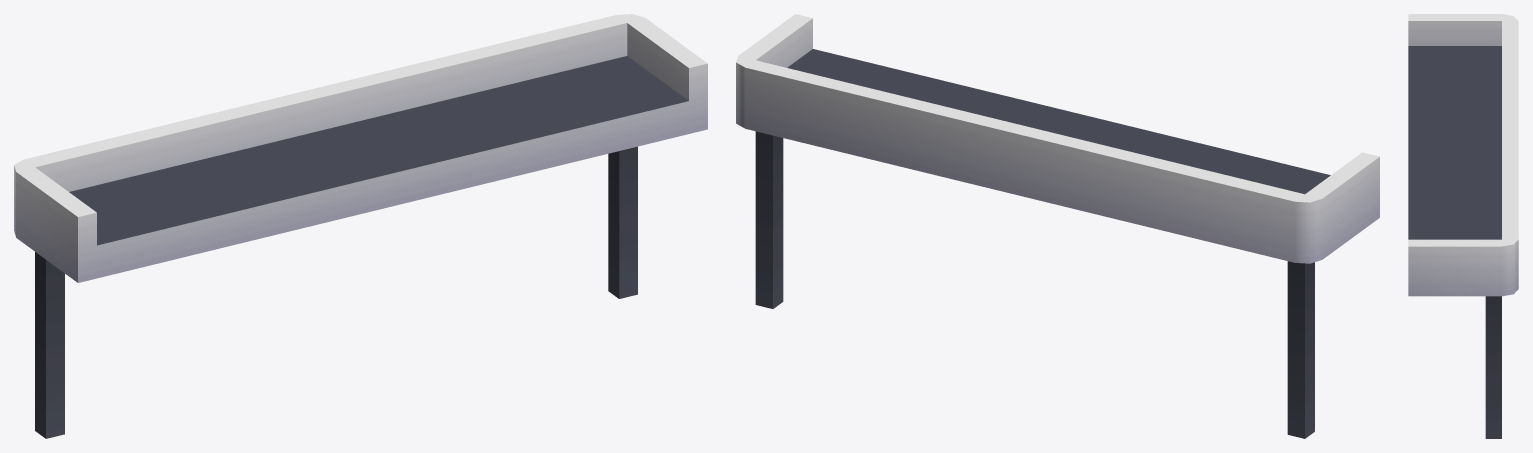
File: detail-overhang-wide.glb
The picture shows the model from 3 angles, left to right: view 1: azimuth 30°, elevation 25°; view 2: azimuth 150°, elevation 25°; view 3: azimuth 270°, elevation 25°; orthographic projection. The views are drawn at different scales.
Visible parts, largest first — view 1: detail-overhang-wide; view 2: detail-overhang-wide; view 3: detail-overhang-wide.
Part boxes in pixels (bbox=[...]): detail-overhang-wide: bbox=[14, 14, 707, 438]; detail-overhang-wide: bbox=[736, 14, 1379, 438]; detail-overhang-wide: bbox=[1408, 14, 1518, 438].
Bounding box in the file's own units: 1 × 0.4 × 0.2.
1 material, 1 textured.
